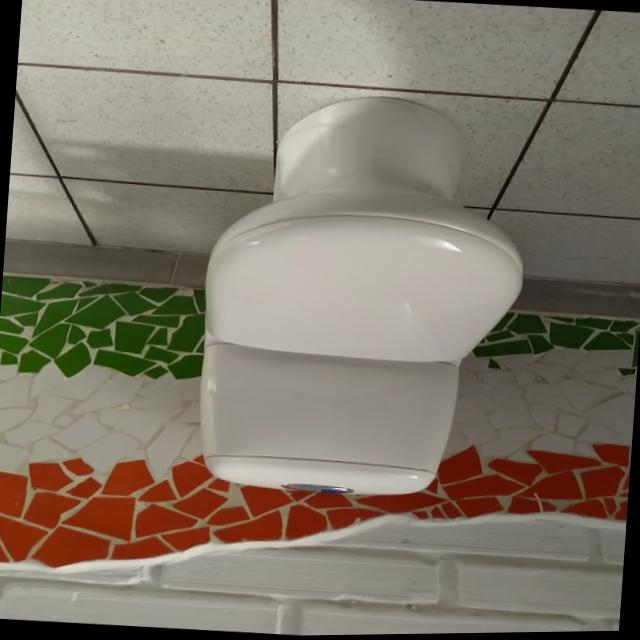toilet: (188, 85, 536, 510)
